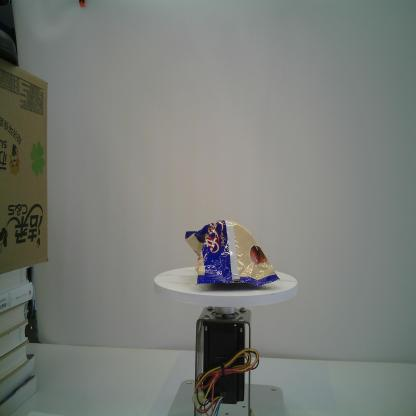Dessert: (185, 220, 281, 285)
